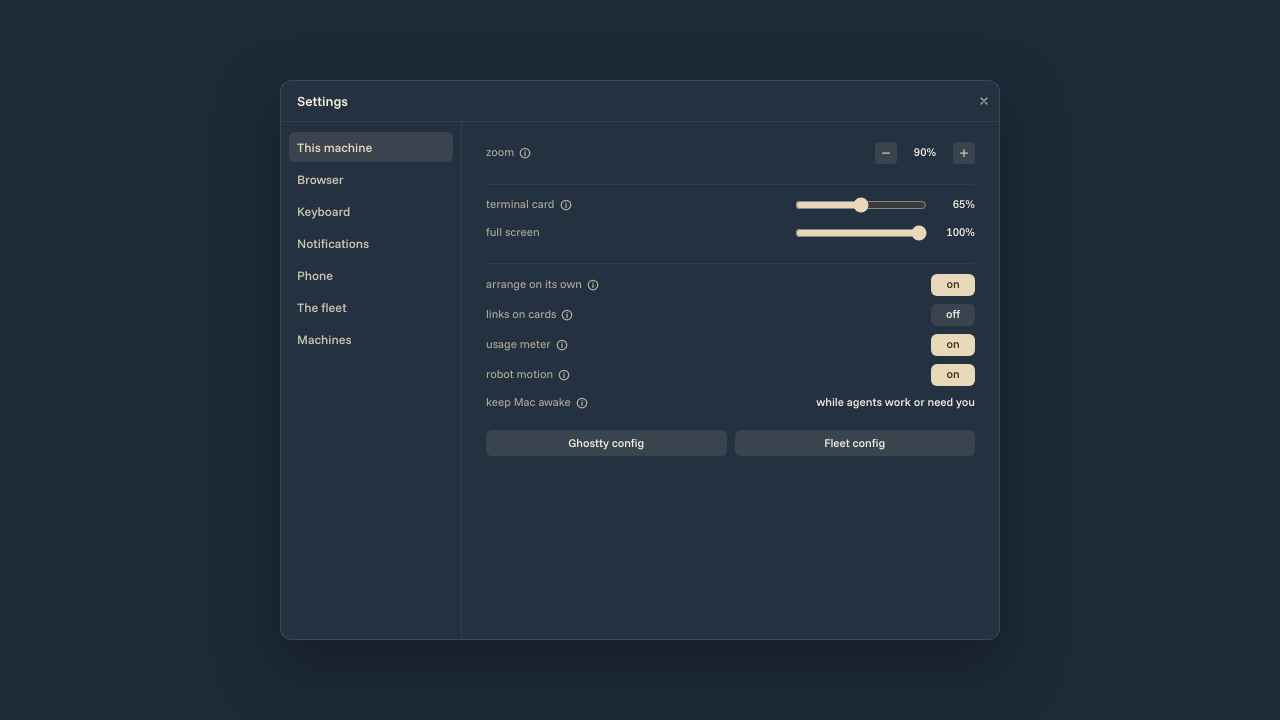
Scenario: sound and the two events are switched one by one
Click the tab with test id "settings-tab-notifications" at [371, 243], box [289,228,453,258]
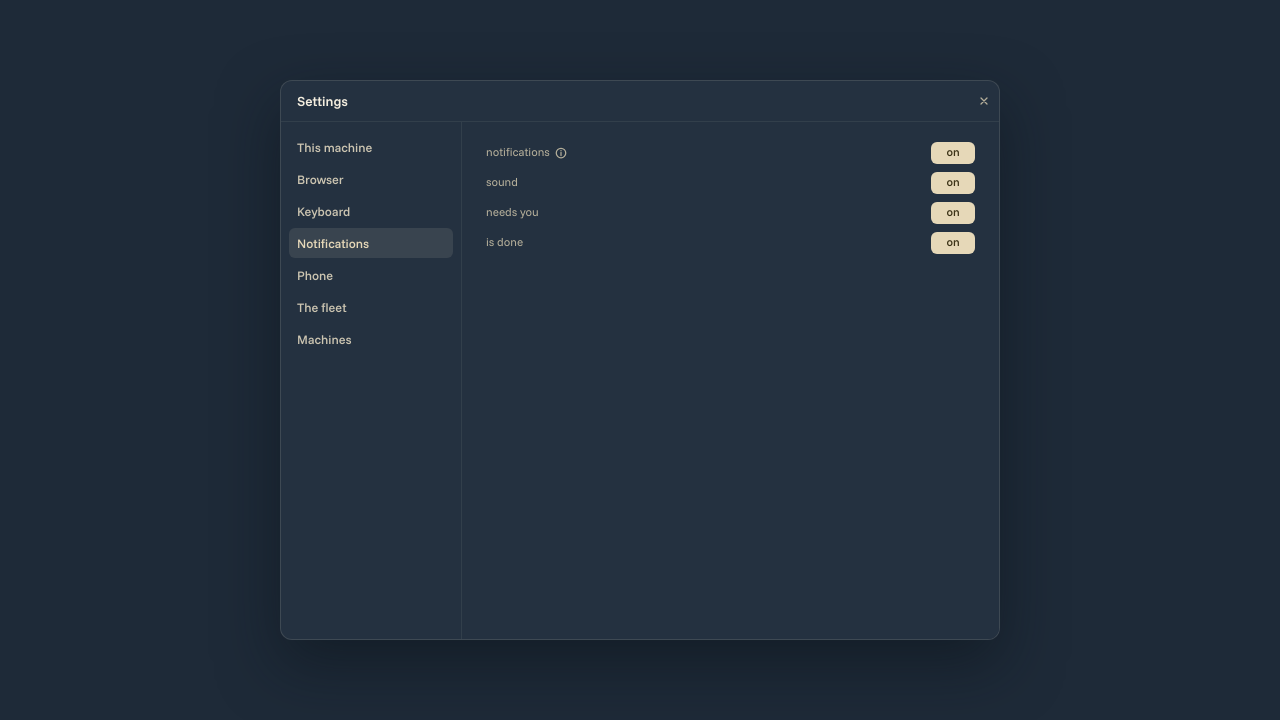
Click the switch with test id "set-notify-done" at [953, 243], box [931,232,975,254]
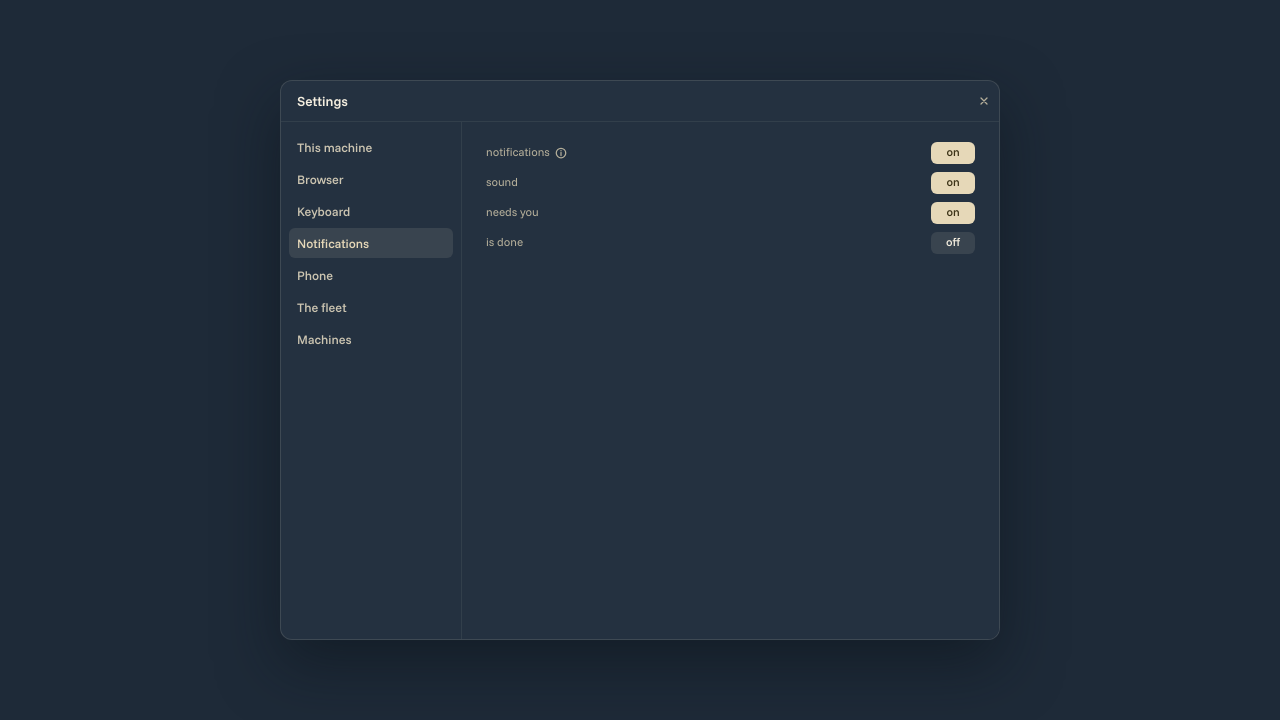
Click the switch with test id "set-notify-sound" at [953, 183], box [931,172,975,194]
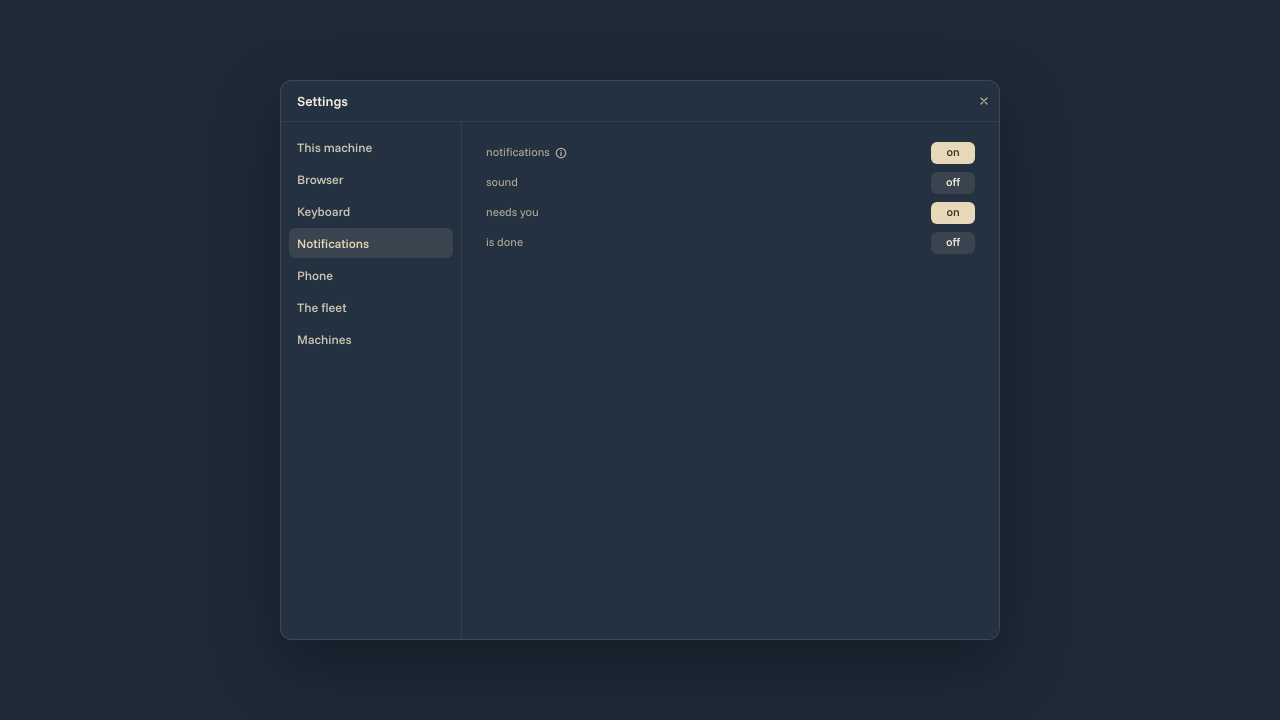
Click the switch with test id "set-notify" at [953, 153], box [931,142,975,164]
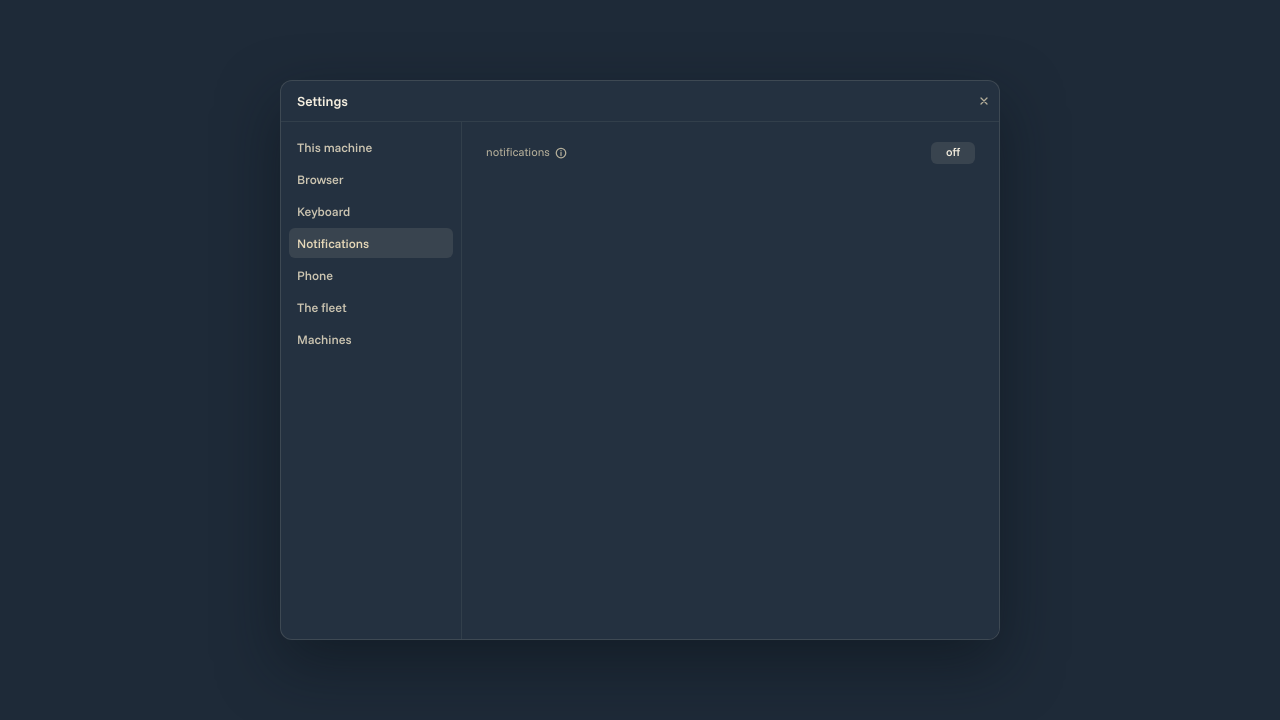
Now the switch with test id "set-notify-sound" is gone
